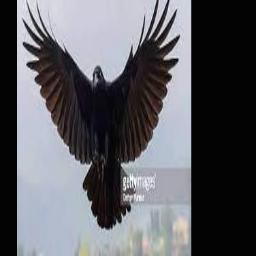Crow: (22, 0, 180, 229)
